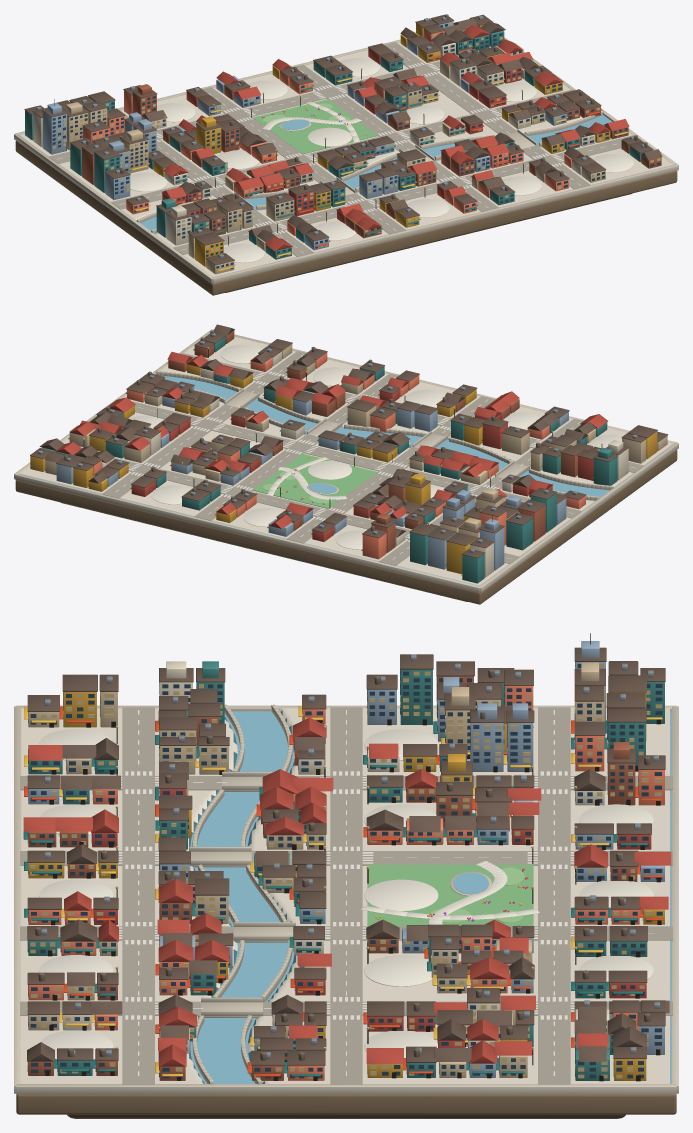
Rendered from city.glb.
3 views of the same model, one above another, from view 1: azimuth 30°, elevation 25°; view 2: azimuth 150°, elevation 25°; view 3: azimuth 270°, elevation 25° (orthographic). The views are drawn at different scales.
Visible parts, largest first — view 1: awn1, slab, pondw; view 2: awn1, slab, pondw; view 3: awn1, slab, pondw.
Part boxes in pixels (x1=…): awn1: x1=14, y1=14, x2=678, y2=283; slab: x1=15, y1=141, x2=677, y2=295; pondw: x1=140, y1=115, x2=612, y2=233; awn1: x1=14, y1=324, x2=678, y2=592; slab: x1=15, y1=450, x2=677, y2=604; pondw: x1=21, y1=375, x2=609, y2=585; awn1: x1=14, y1=633, x2=678, y2=1094; slab: x1=16, y1=1094, x2=676, y2=1118; pondw: x1=190, y1=711, x2=671, y2=1083.
Bounding box in the file's own units: 60.8 × 10.5 × 44.8.
Materials: 3 (3 with a texture image).
